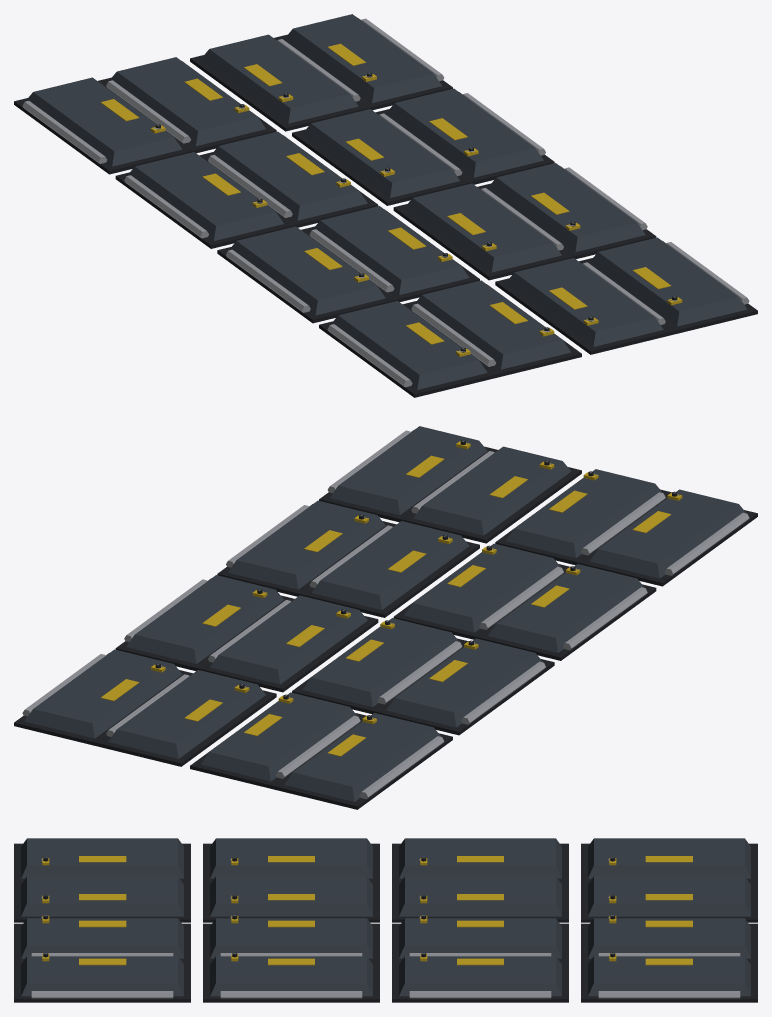
The model's file is vpu16_hatch.obj.
3 renders of one model, top to bottom at view 1: azimuth 30°, elevation 25°; view 2: azimuth 150°, elevation 25°; view 3: azimuth 270°, elevation 25°, orthographic. The views are drawn at different scales.
Visible parts, largest first — view 1: vpu16_hatch; view 2: vpu16_hatch; view 3: vpu16_hatch.
Boxes of the visible parts, <box> form: vpu16_hatch: <box>14,14,757,397</box>; vpu16_hatch: <box>14,426,757,809</box>; vpu16_hatch: <box>14,838,757,1002</box>.
Size of the model in its own units: 3.14 by 0.179 by 6.3.
